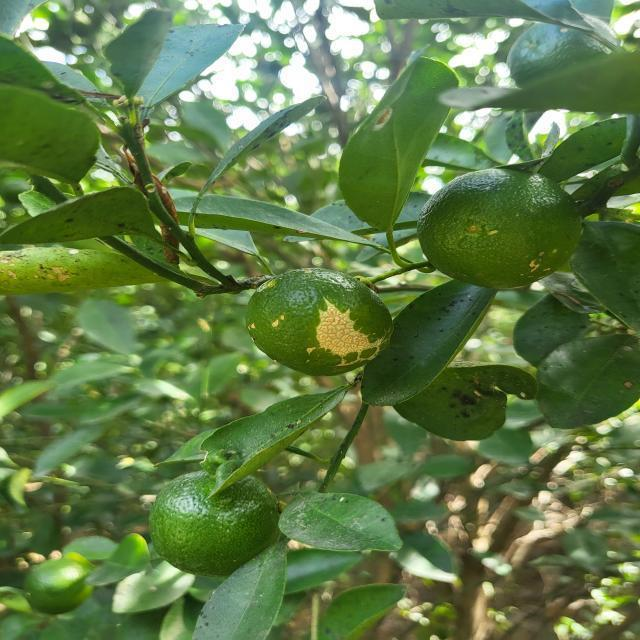thrips: (242, 266, 394, 378)
